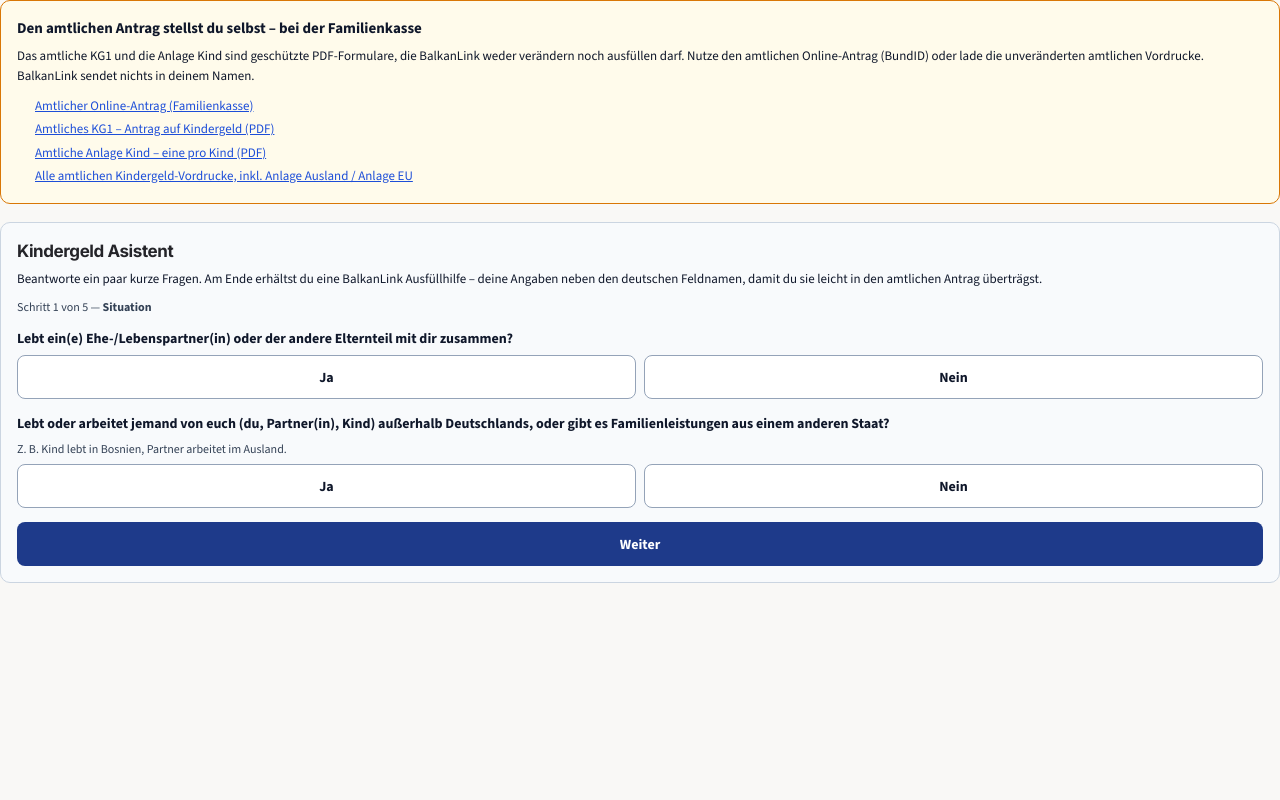
KindergeldAssistent UI › cross-border answer shows the official-check note
Click the 2nd button "Ja" at (326, 486), box left=17, top=464, right=636, bottom=508
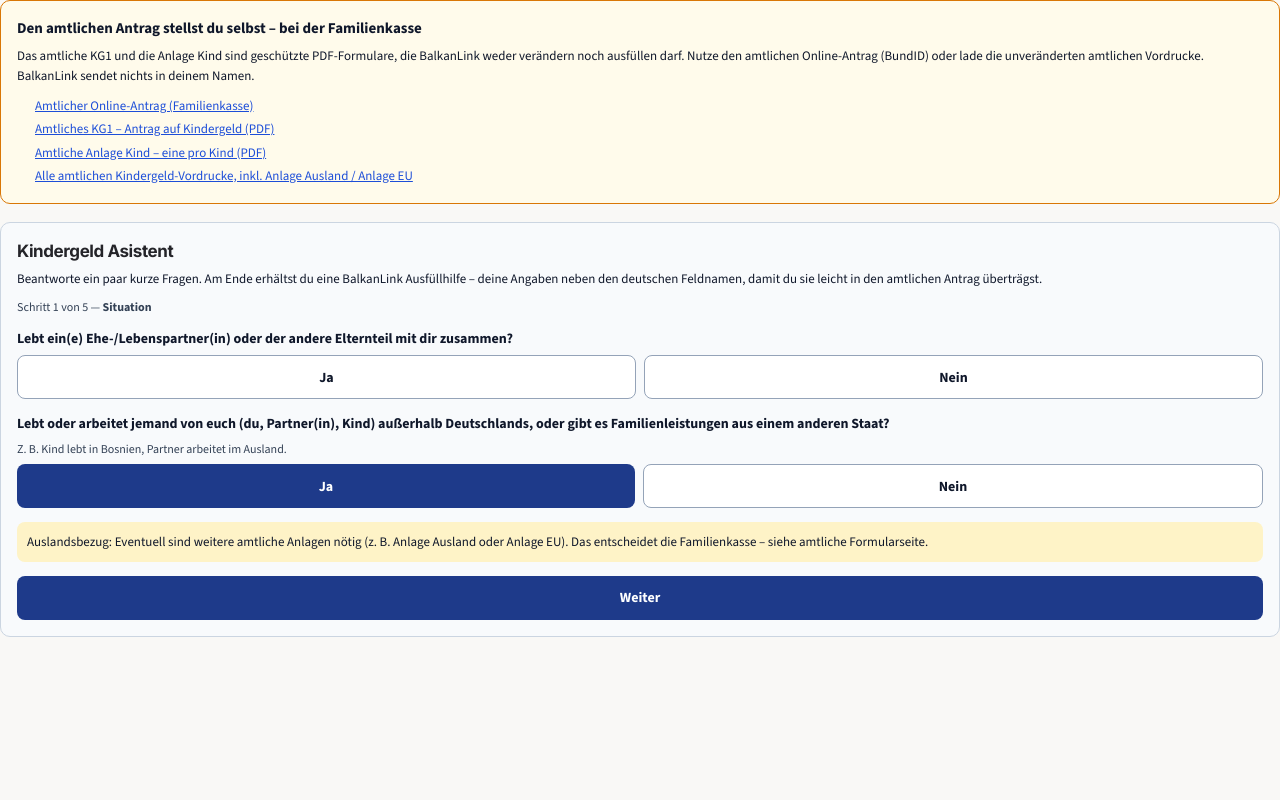
Expected: the text "Anlage Ausland" is shown, left=27, top=533, right=928, bottom=550
